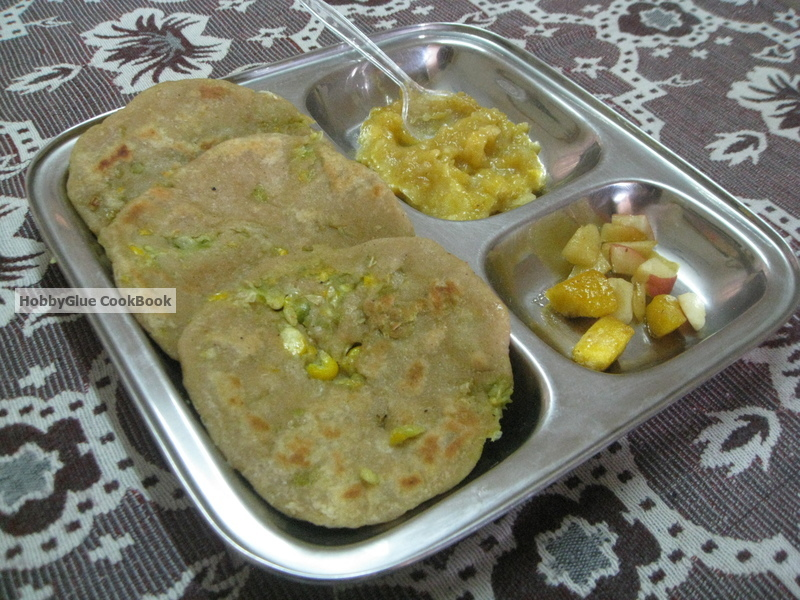aloo_paratha: (73, 79, 507, 526)
